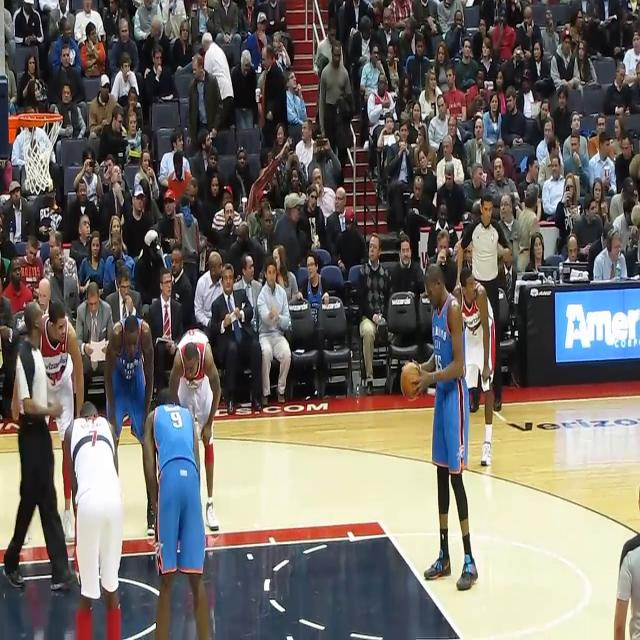ball: (400, 362, 422, 402)
